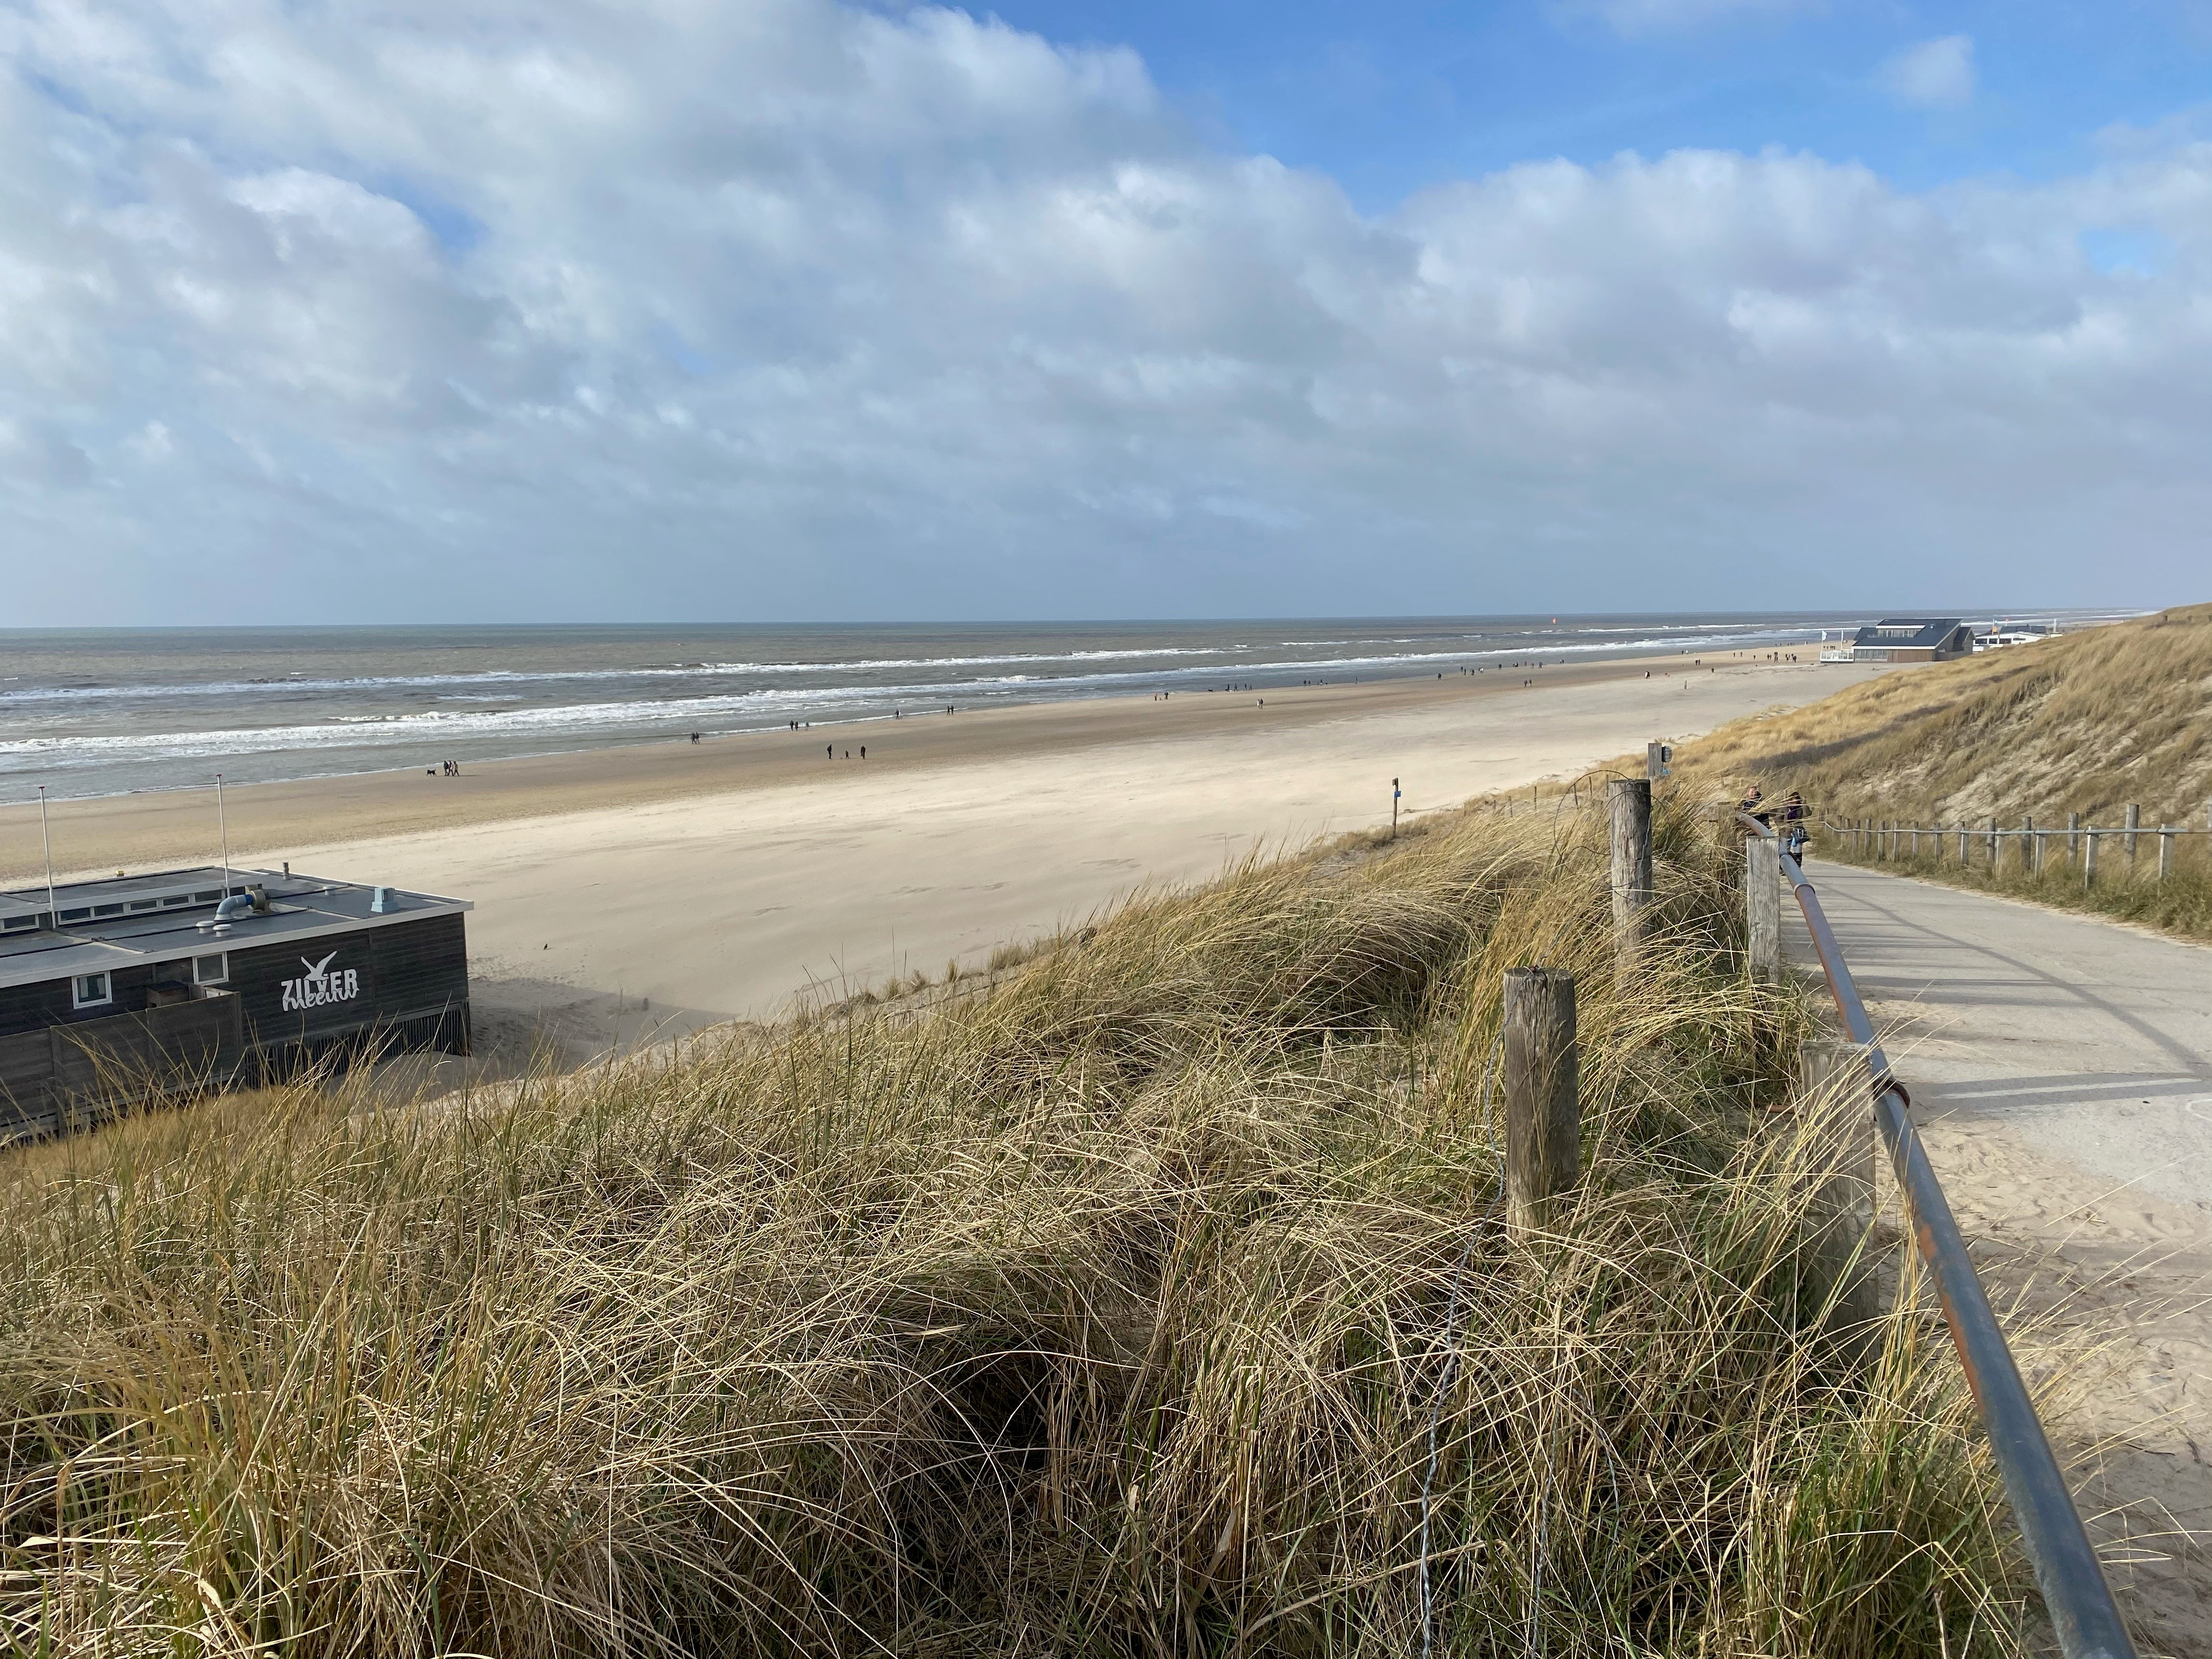pad: (1716, 814, 2212, 1335)
